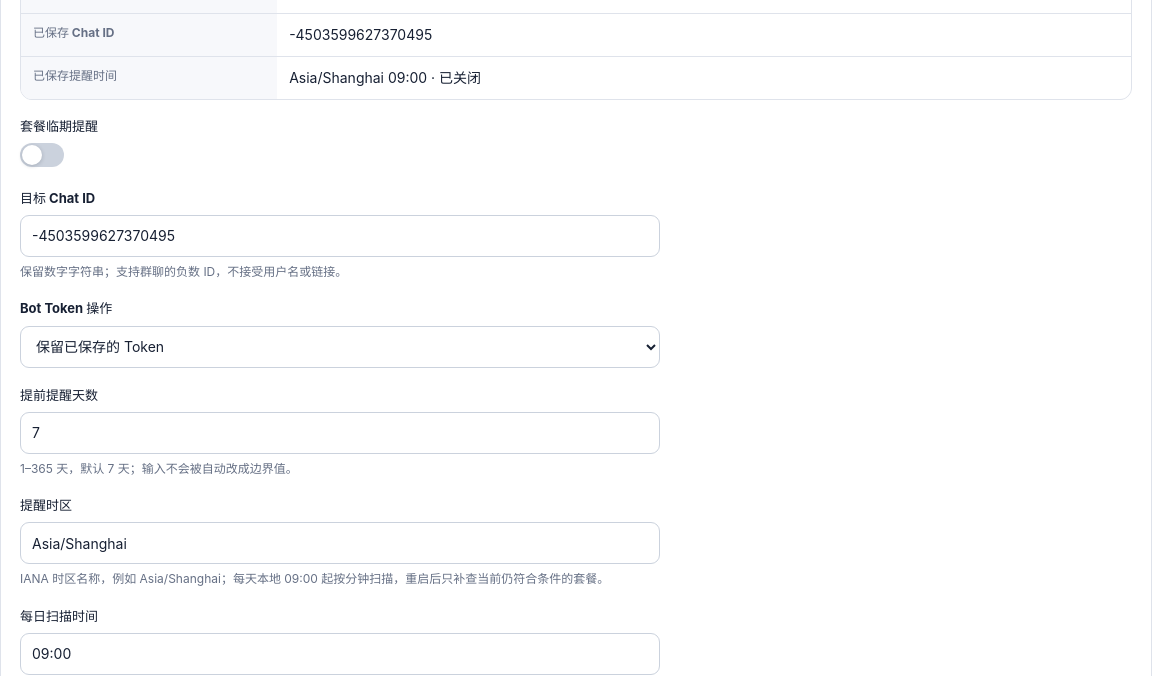
Test: administrator notification workflows › clears a replacement token as its single save begins and never restores or persists it after a failure
(page scrolled)
Press the mouse on the dropdown named "Bot Token 操作": (340, 346) x1=20 y1=326 x2=660 y2=368
Select "替换 Bot Token" in the dropdown named "Bot Token 操作": (340, 346) x1=20 y1=326 x2=660 y2=368
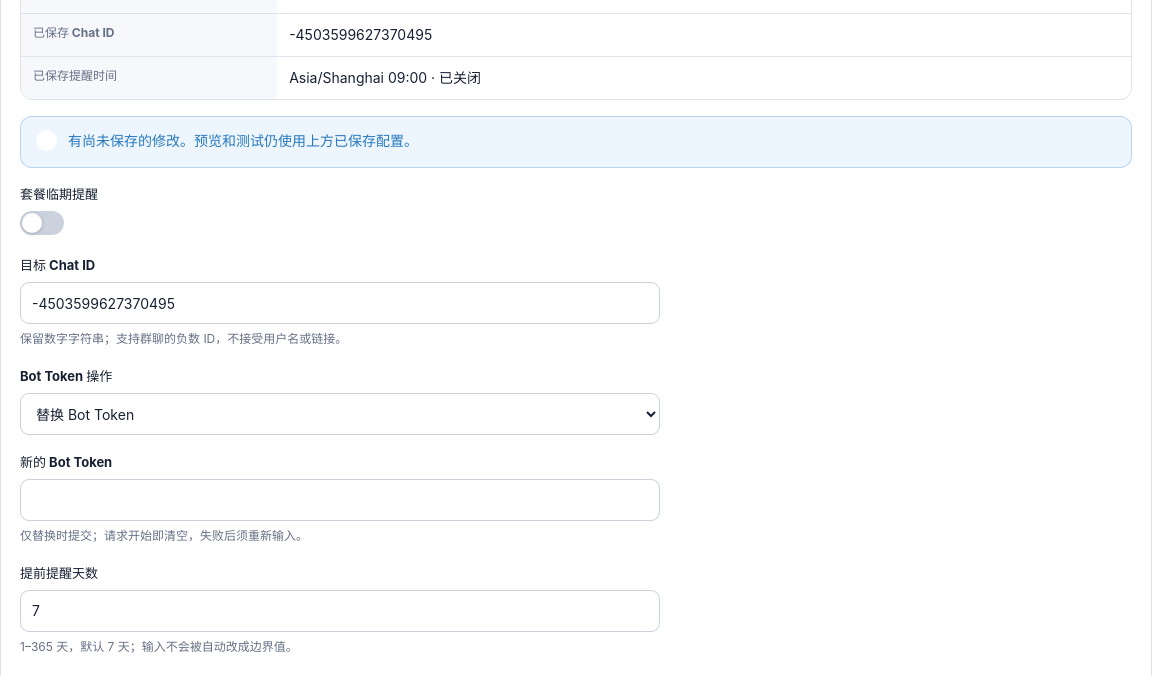
In the password field named "新的 Telegram Bot Token": (340, 500) x1=20 y1=479 x2=660 y2=521, type "12345:abcdefghijklmnopqrstuvwxyz0123456789_PRIVATE"
(page scrolled)
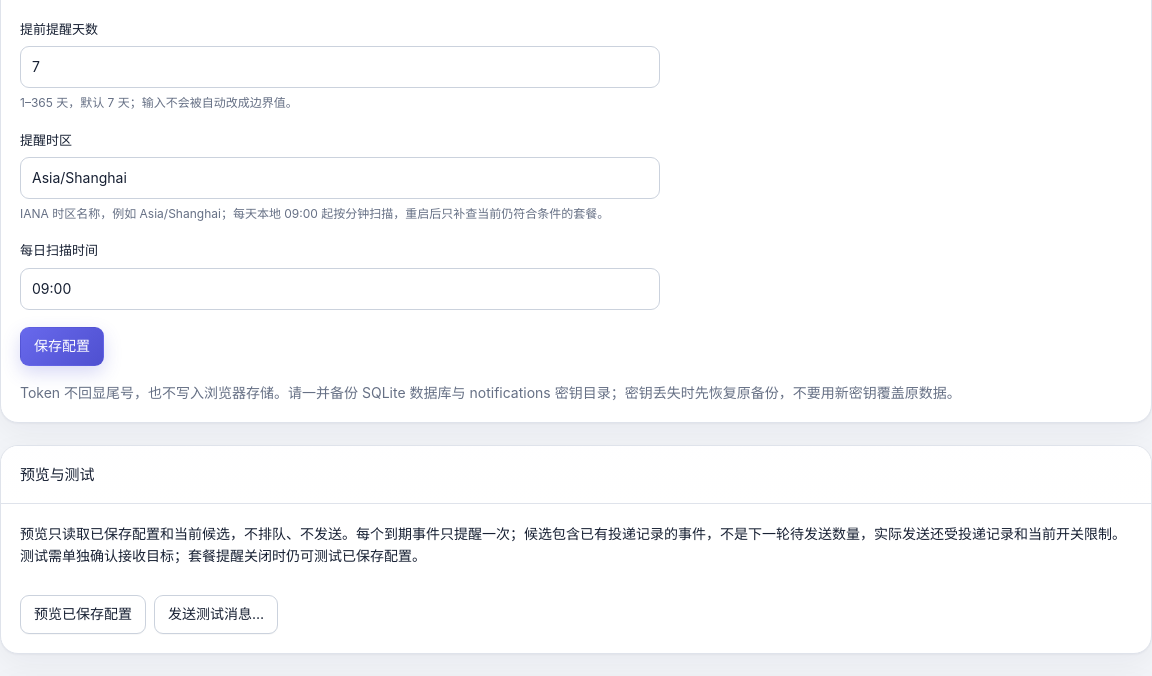
Click the button named "保存通知配置": (62, 346) x1=20 y1=327 x2=104 y2=366
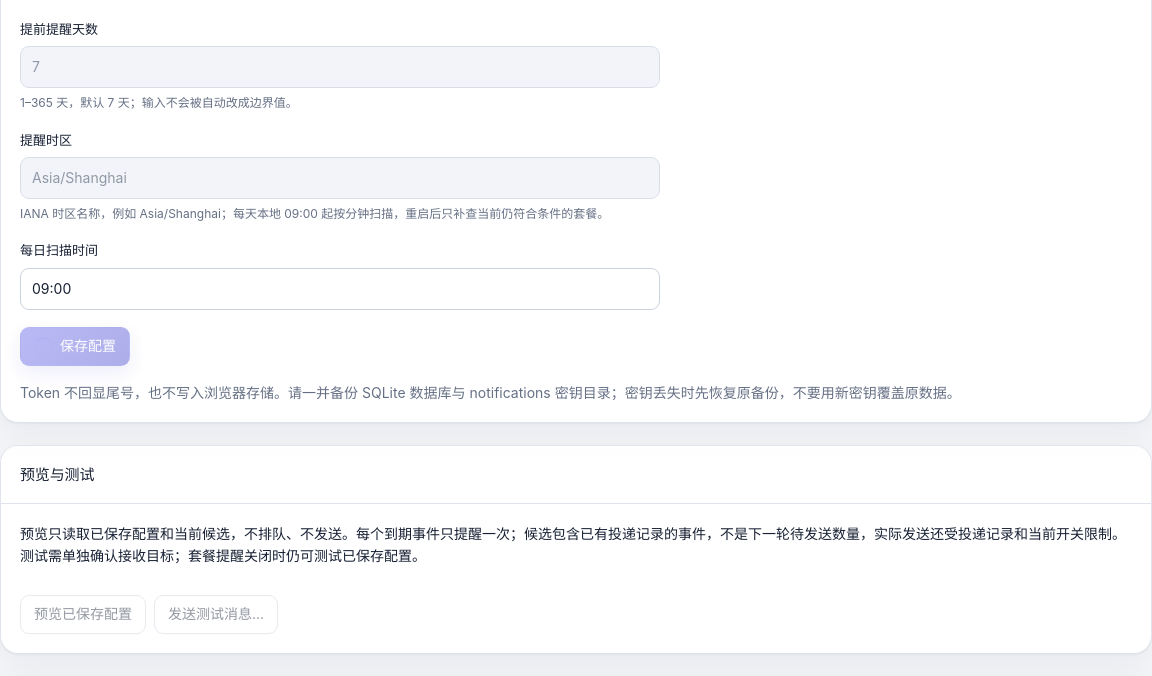
Click the button named "保存通知配置": (75, 346) x1=20 y1=327 x2=130 y2=366
(page scrolled)
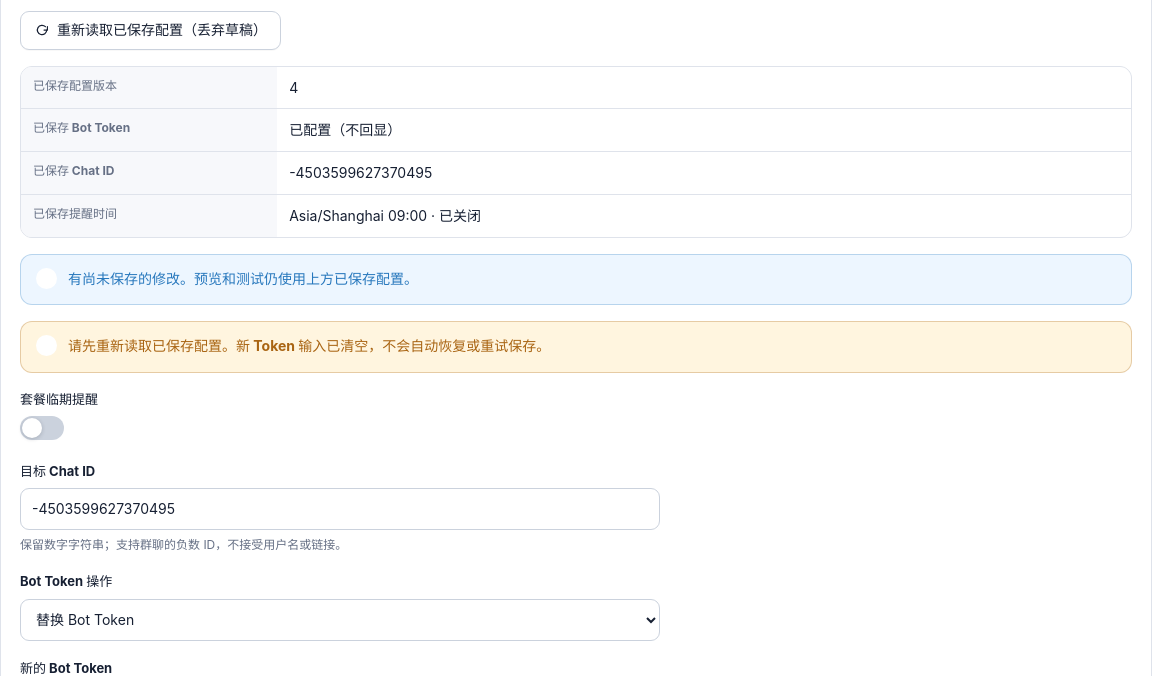
Check: the text "12345:abcdefghijklmnopqrstuvwxyz0123456789_PRIVATE" is not shown
Check: the text "请先重新读取已保存配置。新 Token 输入已清空，不会自动恢复或重试保存。" is shown, box x1=68 y1=337 x2=550 y2=354
